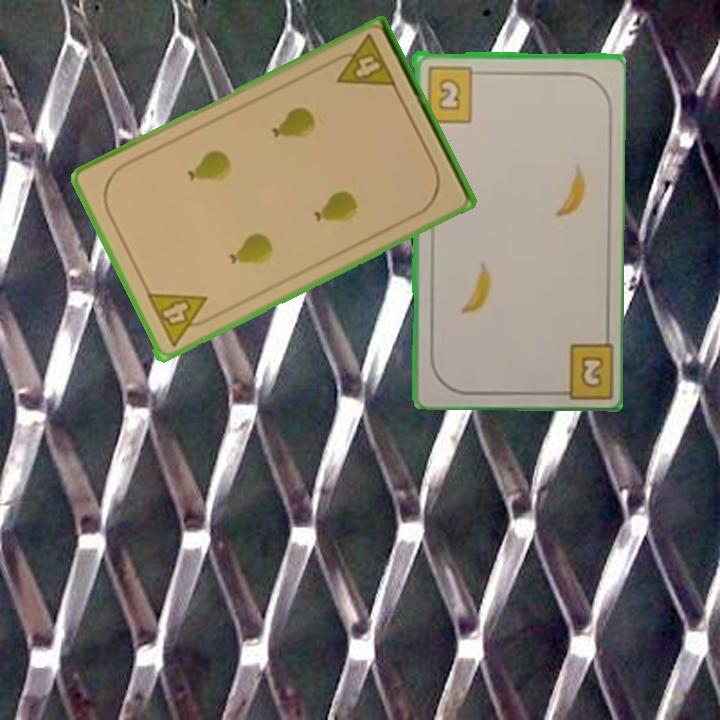2b: (548, 337, 613, 398), (423, 63, 484, 124)
4p: (143, 289, 218, 350), (325, 30, 400, 91)
